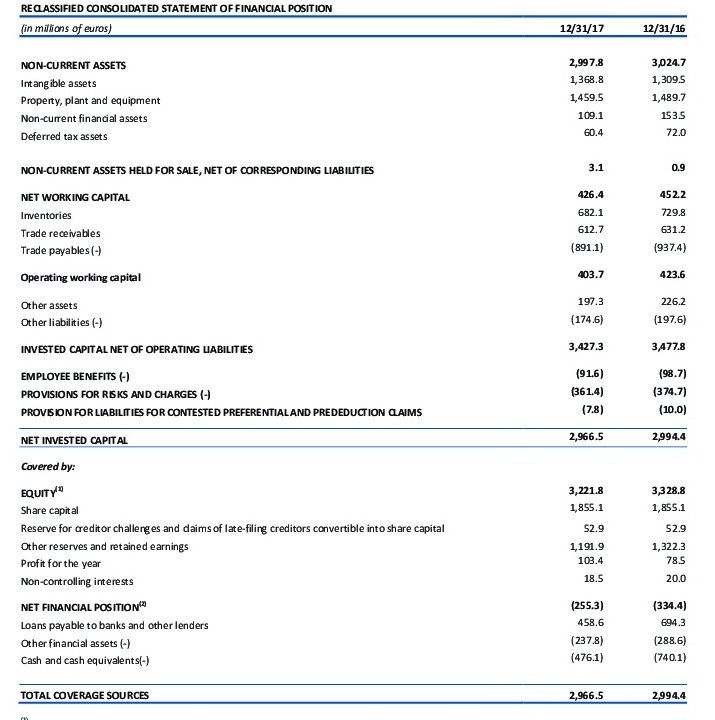table: (0, 0, 715, 720)
